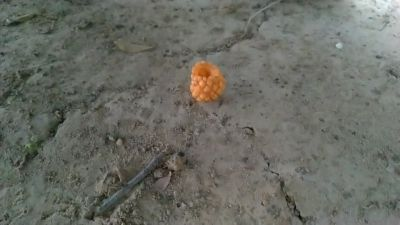eggs: (190, 57, 225, 110)
